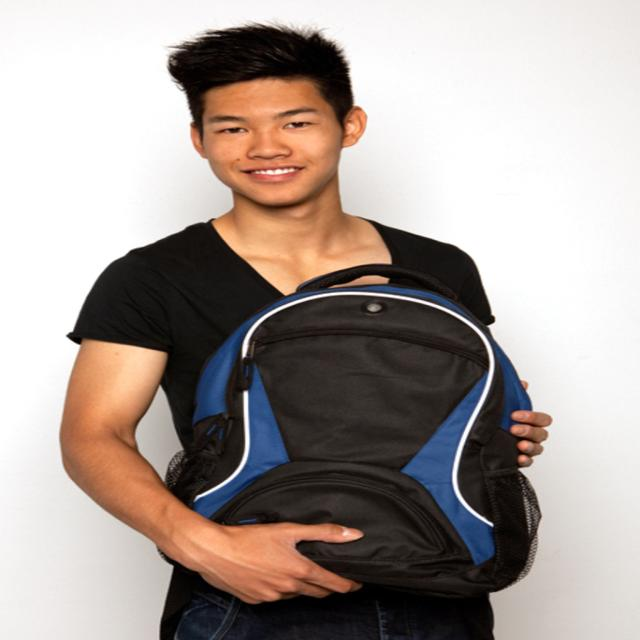backpack: (165, 260, 537, 590)
